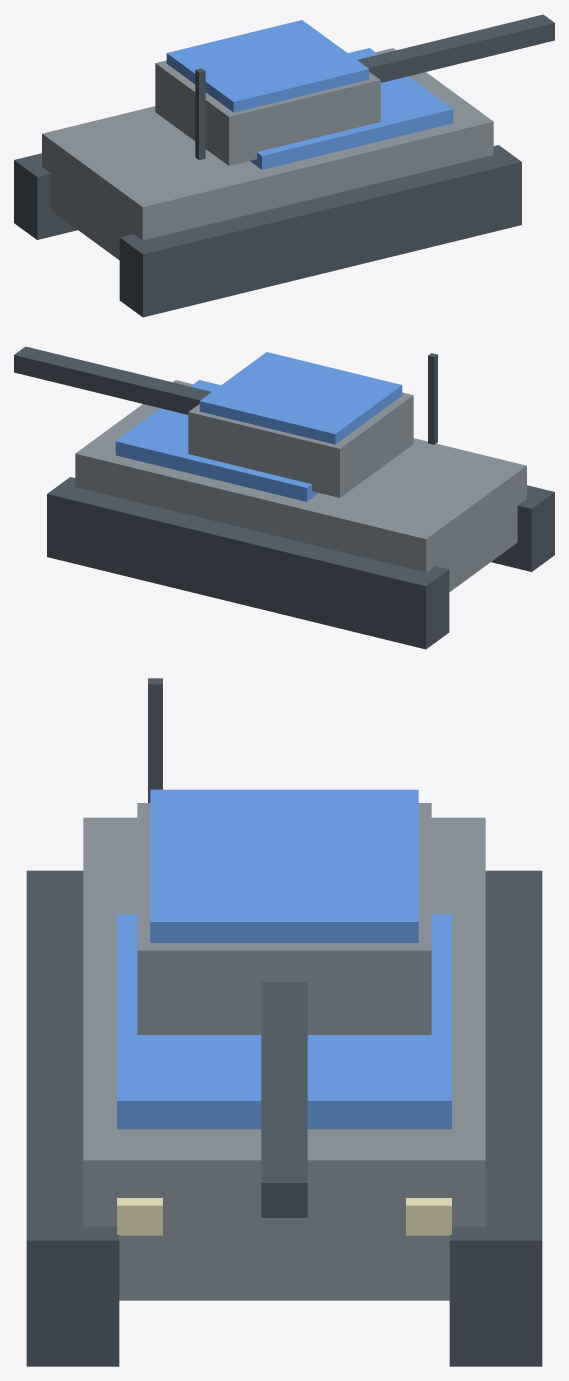
Rendered from lichte_tank.glb.
3 views of the same model, one above another, from view 1: azimuth 30°, elevation 25°; view 2: azimuth 150°, elevation 25°; view 3: azimuth 270°, elevation 25° (orthographic). The views are drawn at different scales.
Visible parts, largest first — view 1: hull_dark_LOD0, hull_steel_LOD0, turret_team_LOD0, turret_steel_LOD0, hull_team_LOD0, barrel_dark_LOD0; view 2: hull_dark_LOD0, hull_steel_LOD0, turret_steel_LOD0, turret_team_LOD0, hull_team_LOD0, barrel_dark_LOD0; view 3: hull_steel_LOD0, hull_dark_LOD0, turret_team_LOD0, hull_team_LOD0, turret_steel_LOD0, barrel_dark_LOD0, hull_lamp_LOD0.
Boxes of the visible parts, x1,y1,x2,y2 form: hull_dark_LOD0: [14, 68, 521, 317]; hull_steel_LOD0: [42, 48, 493, 260]; turret_team_LOD0: [166, 20, 369, 112]; turret_steel_LOD0: [155, 60, 380, 165]; hull_team_LOD0: [250, 48, 453, 169]; barrel_dark_LOD0: [357, 14, 554, 82]; hull_dark_LOD0: [47, 353, 554, 649]; hull_steel_LOD0: [75, 380, 526, 592]; turret_steel_LOD0: [188, 392, 413, 497]; turret_team_LOD0: [199, 352, 402, 444]; hull_team_LOD0: [115, 380, 318, 501]; barrel_dark_LOD0: [14, 346, 211, 414]; hull_steel_LOD0: [83, 817, 485, 1300]; hull_dark_LOD0: [26, 678, 542, 1366]; turret_team_LOD0: [150, 789, 418, 942]; hull_team_LOD0: [117, 914, 451, 1129]; turret_steel_LOD0: [137, 803, 431, 1034]; barrel_dark_LOD0: [261, 982, 307, 1217]; hull_lamp_LOD0: [117, 1198, 451, 1235].
Size of what is drawn, in the model's own units: 5.9 by 2.41 by 2.8.
